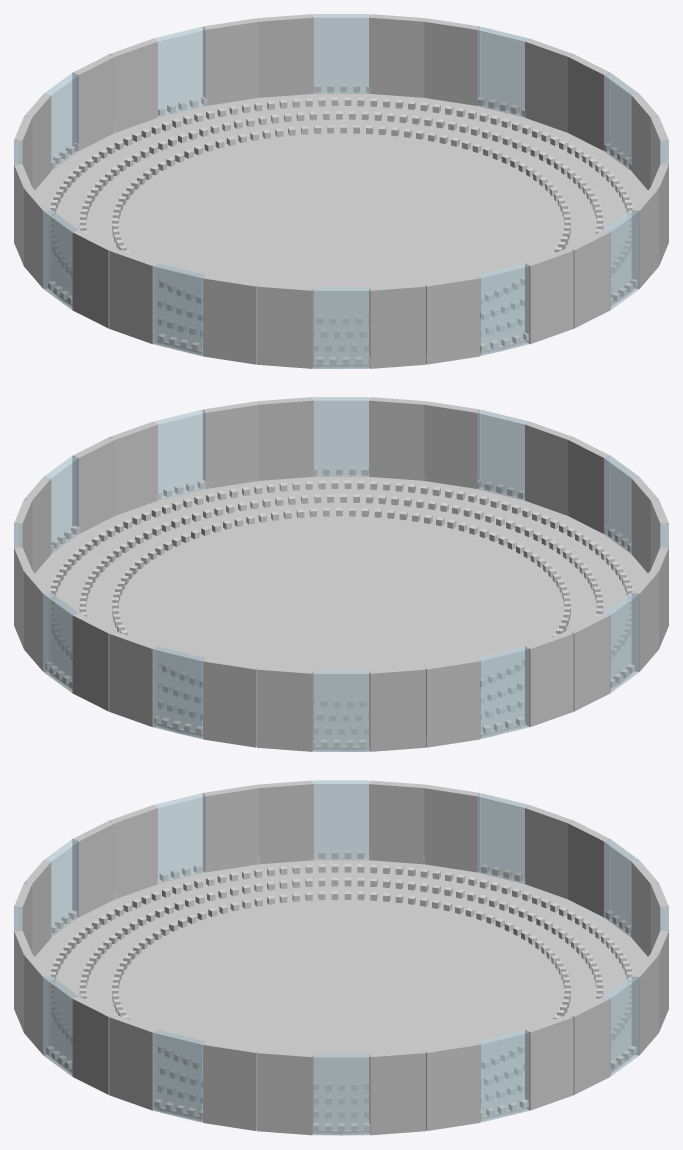
File: roomonetest.fbx
3 views of the same model, one above another, from view 1: azimuth 30°, elevation 25°; view 2: azimuth 150°, elevation 25°; view 3: azimuth 270°, elevation 25° (orthographic).
Visible parts, largest first — view 1: Floor, WallSegment_23, WallSegment_25, WallSegment_24, WallSegment_6, WallSegment_7, WallSegment_5, WallSegment_4, WallSegment_8, WallSegment_22, WallSegment_26, WallSegment_21 (+23 smaller); view 2: Floor, WallSegment_13, WallSegment_11, WallSegment_12, WallSegment_30, WallSegment_29, WallSegment_31, WallSegment_32, WallSegment_28, WallSegment_10, WallSegment_14, WallSegment_9 (+23 smaller); view 3: Floor, WallSegment_0, WallSegment_1, WallSegment_35, WallSegment_18, WallSegment_16, WallSegment_20, WallSegment_17, WallSegment_19, WallSegment_2, WallSegment_34, WallSegment_3 (+23 smaller).
Boxes of the visible parts, bbox=[...] form: Floor: bbox=[35, 92, 647, 368]; WallSegment_23: bbox=[257, 283, 313, 368]; WallSegment_25: bbox=[369, 283, 425, 368]; WallSegment_24: bbox=[313, 287, 369, 368]; WallSegment_6: bbox=[313, 14, 369, 93]; WallSegment_7: bbox=[257, 14, 313, 97]; WallSegment_5: bbox=[369, 14, 425, 97]; WallSegment_4: bbox=[424, 18, 479, 105]; WallSegment_8: bbox=[203, 18, 258, 105]; WallSegment_22: bbox=[203, 275, 258, 364]; WallSegment_26: bbox=[424, 275, 479, 364]; WallSegment_21: bbox=[153, 263, 205, 356]; Floor: bbox=[35, 475, 647, 751]; WallSegment_13: bbox=[369, 666, 425, 751]; WallSegment_11: bbox=[257, 666, 313, 751]; WallSegment_12: bbox=[313, 670, 369, 751]; WallSegment_30: bbox=[313, 397, 369, 476]; WallSegment_29: bbox=[369, 397, 425, 480]; WallSegment_31: bbox=[257, 397, 313, 480]; WallSegment_32: bbox=[203, 401, 258, 488]; WallSegment_28: bbox=[424, 401, 479, 488]; WallSegment_10: bbox=[203, 658, 258, 747]; WallSegment_14: bbox=[424, 658, 479, 747]; WallSegment_9: bbox=[153, 646, 205, 739]; Floor: bbox=[35, 858, 647, 1135]; WallSegment_0: bbox=[313, 1053, 369, 1135]; WallSegment_1: bbox=[369, 1049, 425, 1135]; WallSegment_35: bbox=[257, 1049, 313, 1135]; WallSegment_18: bbox=[313, 780, 369, 860]; WallSegment_16: bbox=[424, 784, 479, 872]; WallSegment_20: bbox=[203, 784, 258, 872]; WallSegment_17: bbox=[369, 780, 425, 864]; WallSegment_19: bbox=[257, 780, 313, 864]; WallSegment_2: bbox=[424, 1041, 479, 1130]; WallSegment_34: bbox=[203, 1041, 258, 1130]; WallSegment_3: bbox=[477, 1030, 529, 1122].
Bounding box in the file's own units: 3040 × 410 × 3040.
